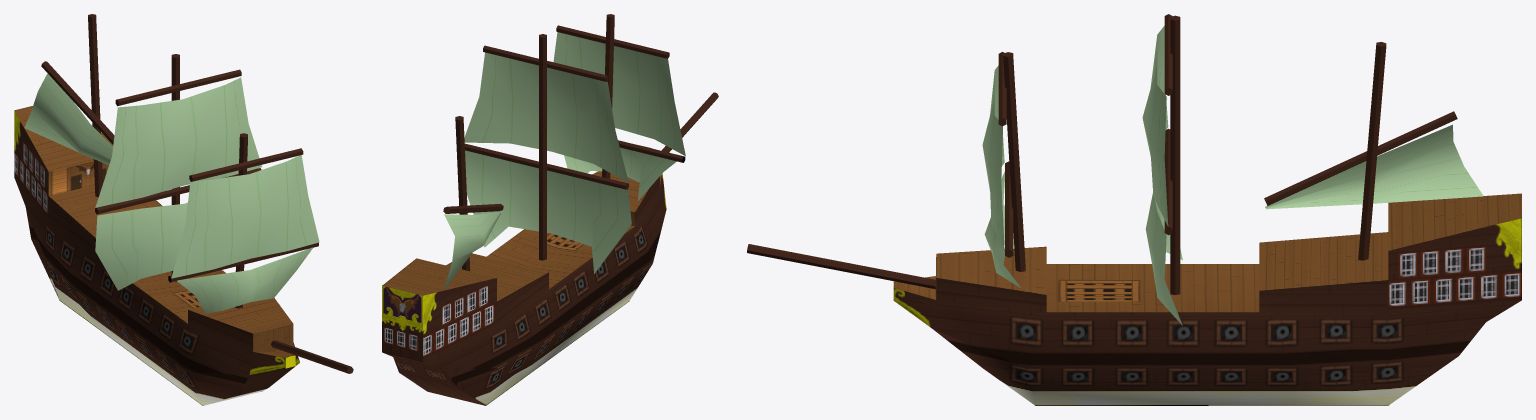
Rendered from Spanish galleon.fbx.
3 views of the same model, side by side, from view 1: azimuth 30°, elevation 25°; view 2: azimuth 150°, elevation 25°; view 3: azimuth 270°, elevation 25° (orthographic). The views are drawn at different scales.
Visible parts, largest first — view 1: Cylinder.7, Plane, Plane.2, Plane.1, Plane.3, Plane.4; view 2: Cylinder.7, Plane, Plane.1, Plane.2, Plane.4, Plane.3; view 3: Cylinder.7, Plane.4, Plane, Plane.2, Plane.1, Plane.3.
Boxes of the visible parts, x1,y1,x2,y2 form: Cylinder.7: (14, 14, 353, 405); Plane: (95, 77, 261, 207); Plane.2: (171, 155, 319, 278); Plane.1: (95, 202, 187, 290); Plane.3: (177, 247, 312, 313); Plane.4: (24, 73, 112, 165); Cylinder.7: (382, 14, 718, 405); Plane: (464, 52, 628, 182); Plane.1: (465, 150, 631, 273); Plane.2: (553, 32, 685, 156); Plane.4: (444, 211, 500, 289); Plane.3: (564, 145, 676, 200); Cylinder.7: (747, 14, 1521, 405); Plane.4: (1265, 124, 1483, 209); Plane: (1142, 26, 1168, 226); Plane.2: (982, 65, 1004, 250); Plane.1: (1145, 193, 1182, 325); Plane.3: (984, 171, 1021, 288).
Bounding box in the file's own units: 207 × 351 × 667.
Materials: 6 (6 with a texture image).
